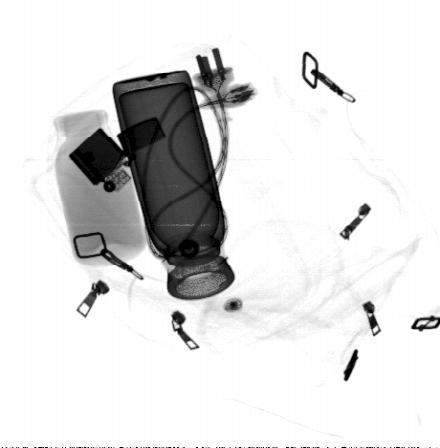Lighter: (68, 116, 167, 194)
